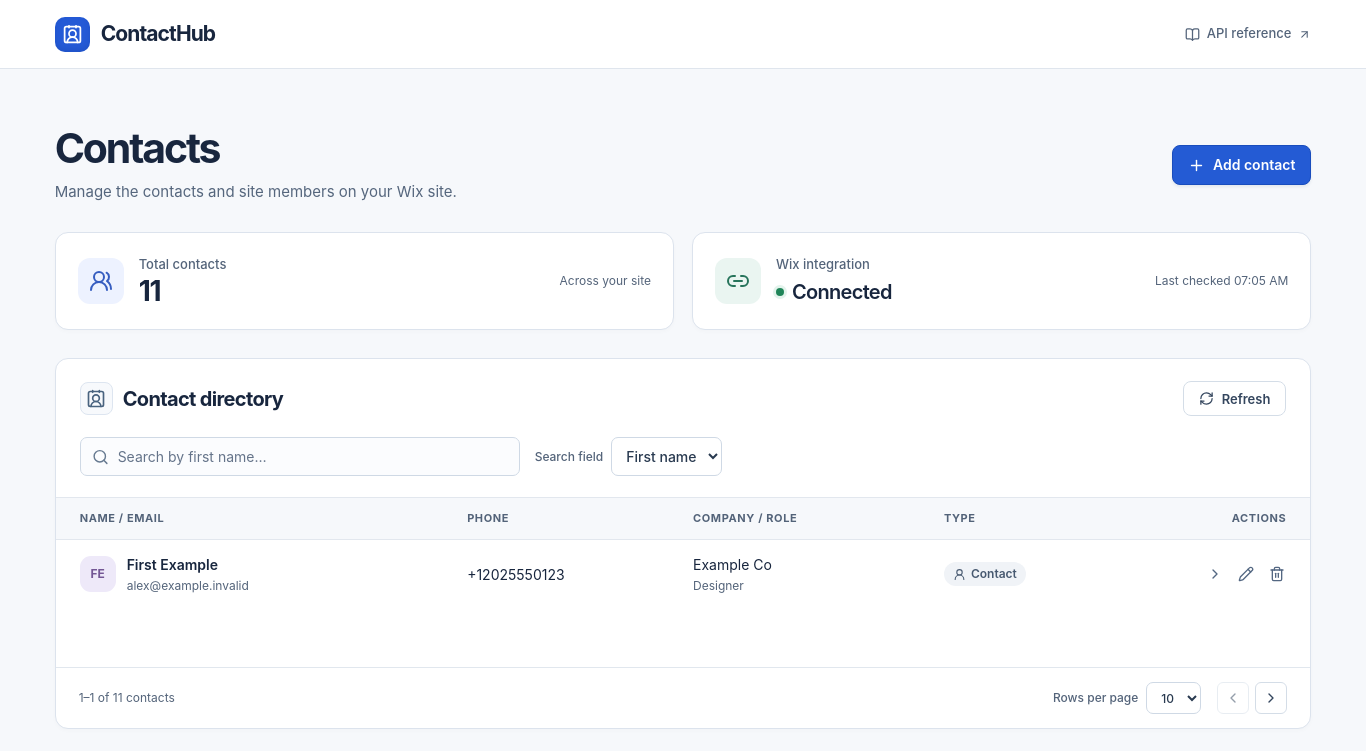
Test: returns to a valid page after deleting its last row
Expected: the text "Connected" is shown, left=776, top=277, right=892, bottom=307
Click the button named "Next page" at (1271, 698), box left=1255, top=682, right=1287, bottom=714
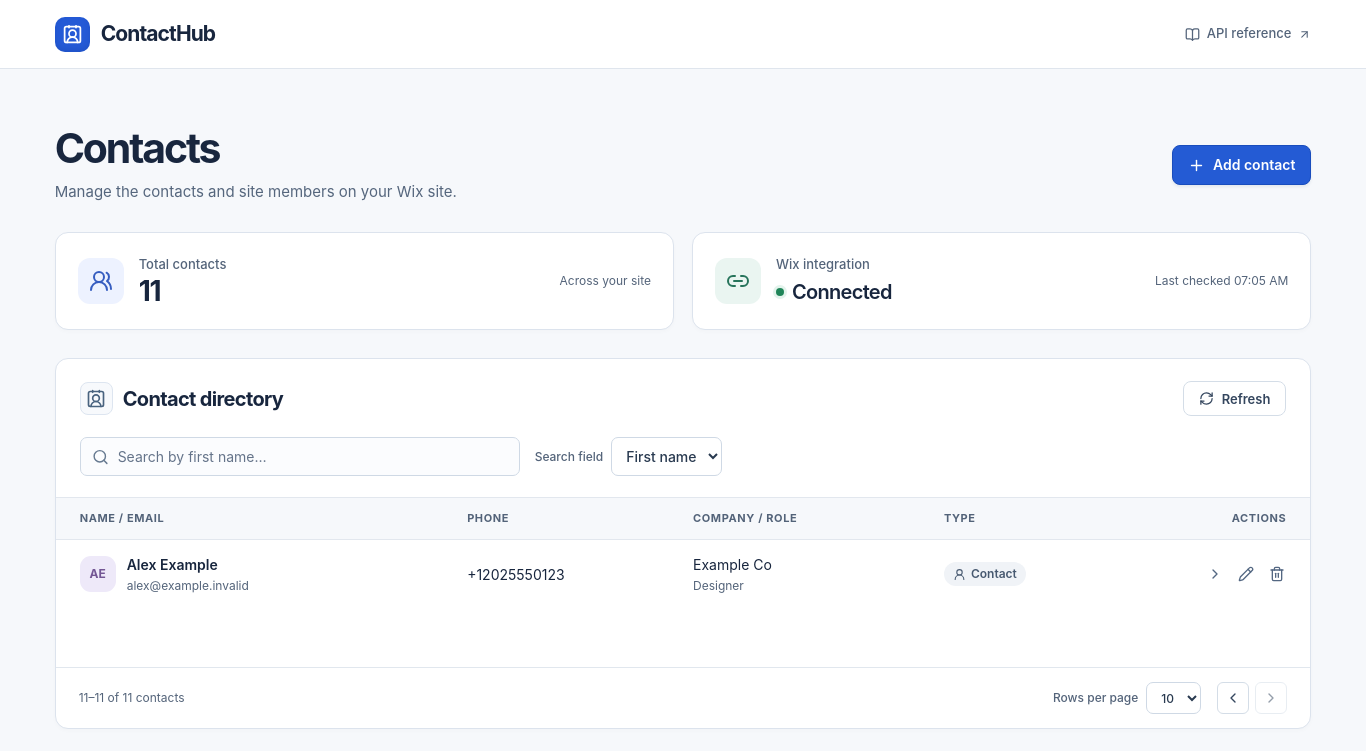
Expected: the text "Alex Example" is shown, left=127, top=556, right=218, bottom=573
Click the button named "Delete Alex Example · alex@example.invalid · +12025550123" at (1277, 574), box left=1261, top=558, right=1292, bottom=590
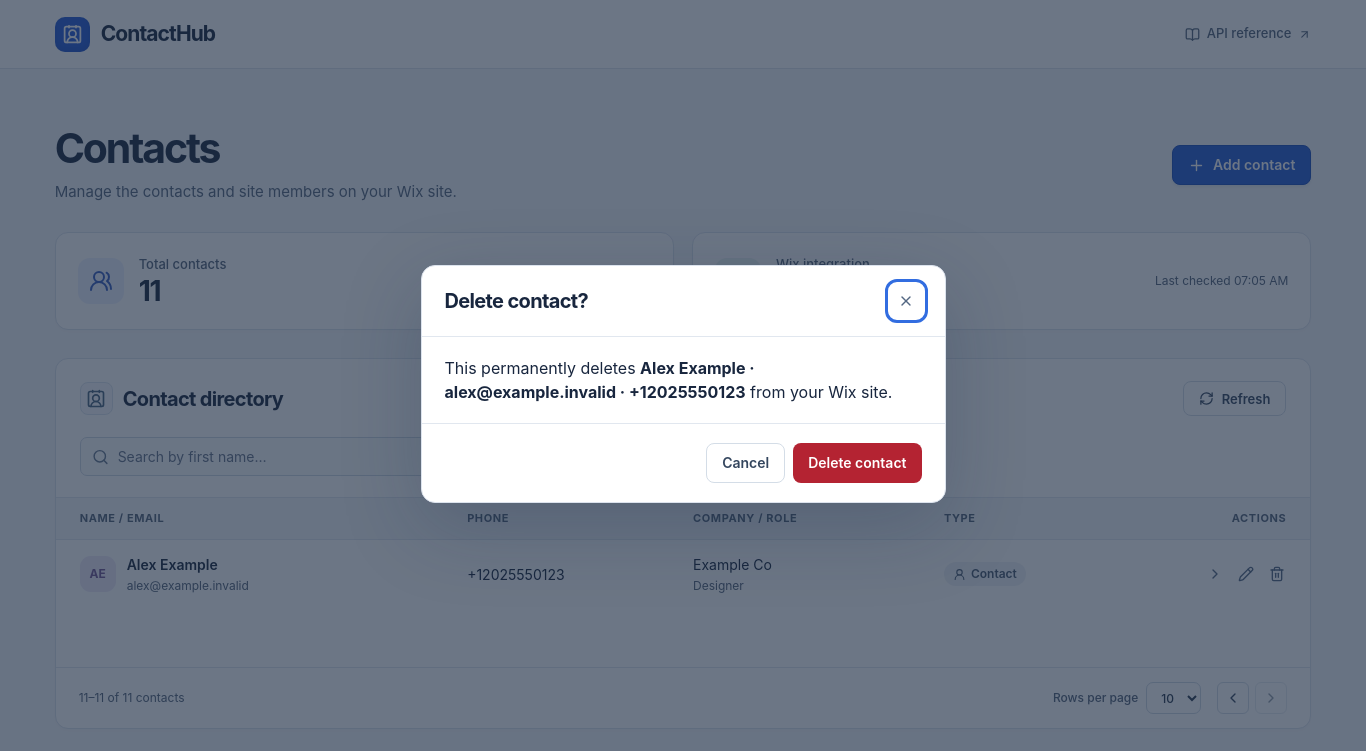
Click the button "Delete contact" at (857, 463), box left=793, top=443, right=922, bottom=483
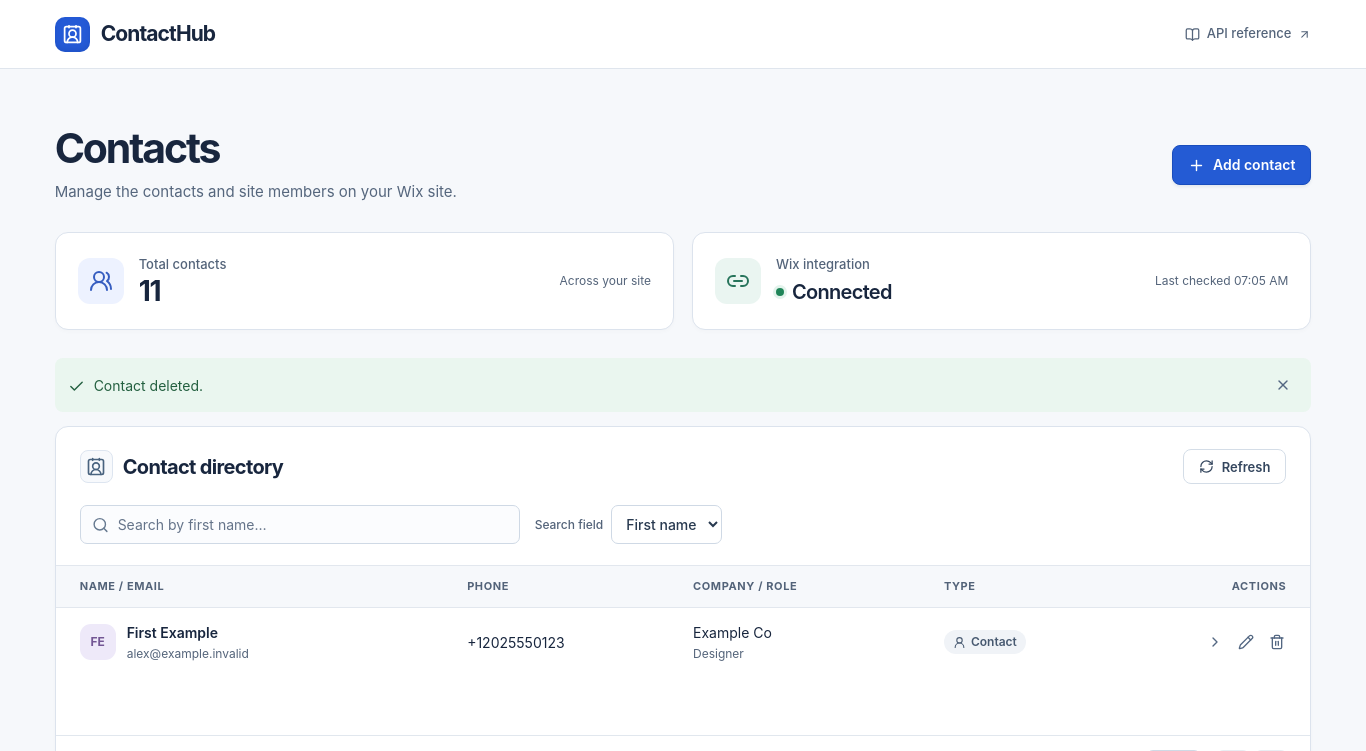
Expected: the text "Contact deleted." is shown, left=55, top=358, right=1311, bottom=412
Expected: the text "First Example" is shown, left=127, top=624, right=218, bottom=641
